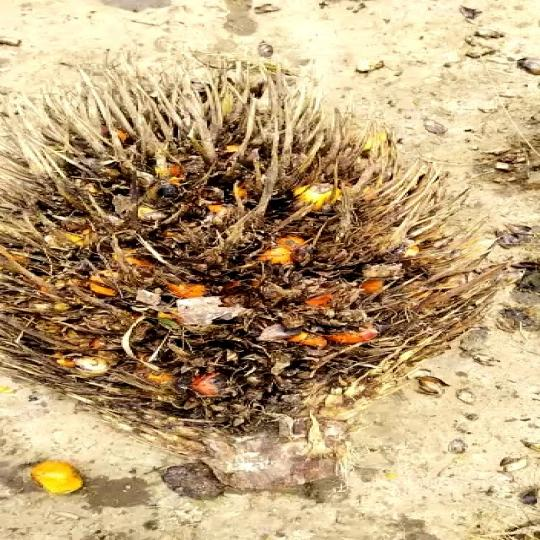terlalu masak: (0, 55, 540, 466)
